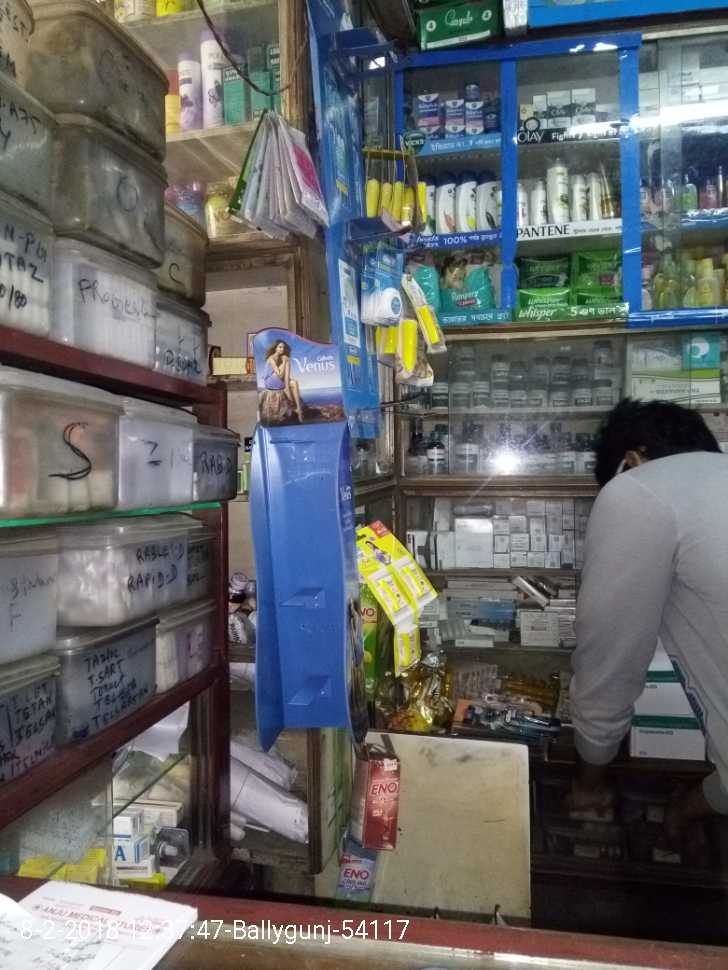beauty: (544, 159, 572, 225), (452, 170, 476, 230), (474, 168, 497, 229), (436, 171, 454, 232), (570, 87, 596, 126), (528, 179, 547, 226), (547, 89, 570, 126), (531, 94, 549, 128)
pharmacy: (439, 251, 498, 314), (570, 249, 625, 288), (515, 252, 571, 289), (513, 288, 571, 308), (413, 91, 441, 122), (466, 100, 483, 135), (444, 99, 463, 124), (463, 79, 480, 101)
